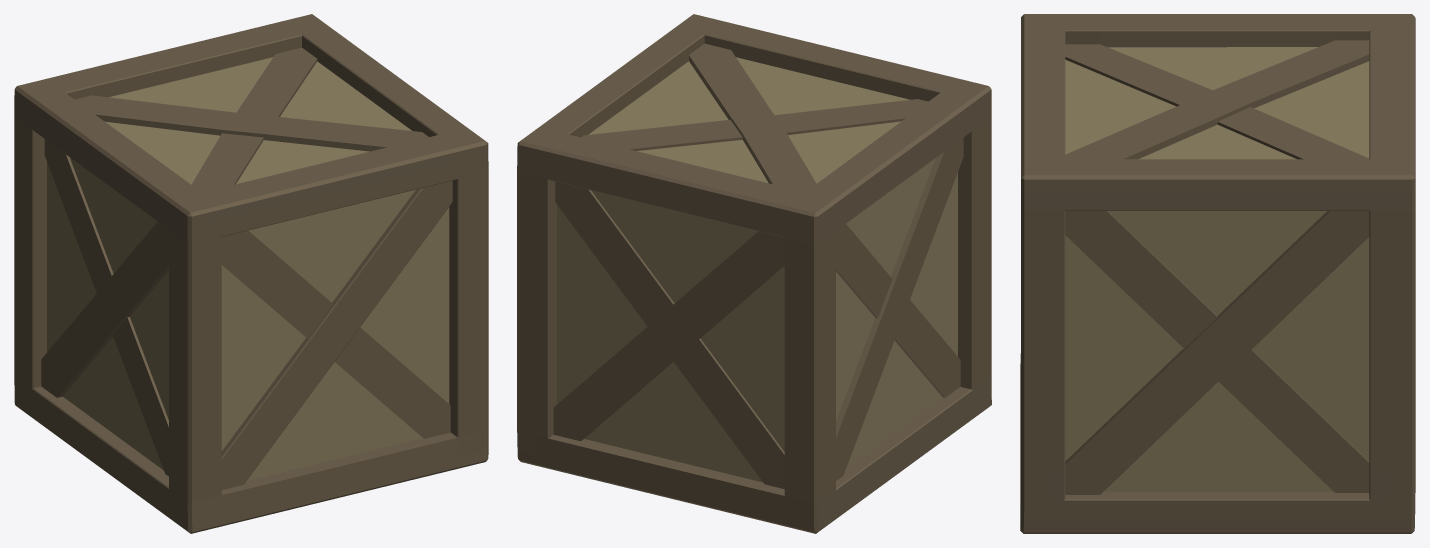
File: Wooden Crate.fbx
The picture shows the model from 3 angles, left to right: view 1: azimuth 30°, elevation 25°; view 2: azimuth 150°, elevation 25°; view 3: azimuth 270°, elevation 25°; orthographic projection. The views are drawn at different scales.
Parts seen in each view (by area): view 1: Cube; view 2: Cube; view 3: Cube.
Part boxes in pixels (bbox=[...]): Cube: bbox=[14, 14, 488, 533]; Cube: bbox=[517, 14, 991, 533]; Cube: bbox=[1020, 14, 1415, 533].
Size of the model in its own units: 197 by 201 by 201.
